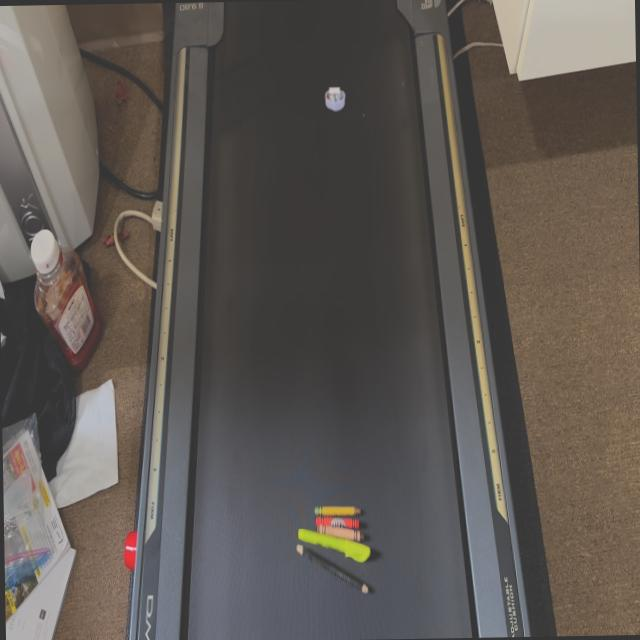Recycle: (322, 81, 345, 114)
Trash: (293, 498, 373, 600)
